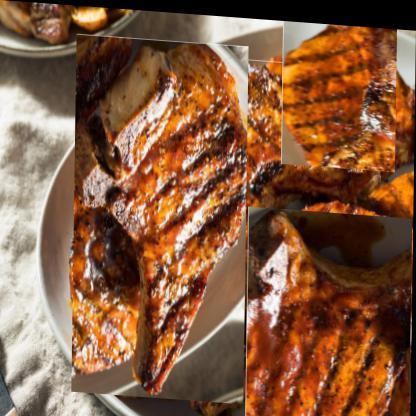cooked_meat: (71, 32, 250, 402), (246, 201, 414, 415), (187, 52, 375, 222), (274, 20, 407, 159)
